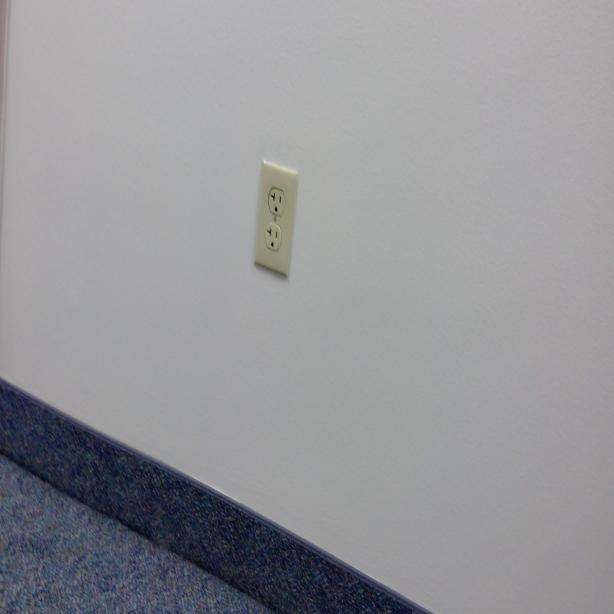typeb: (268, 185, 286, 216), (263, 224, 281, 252)
